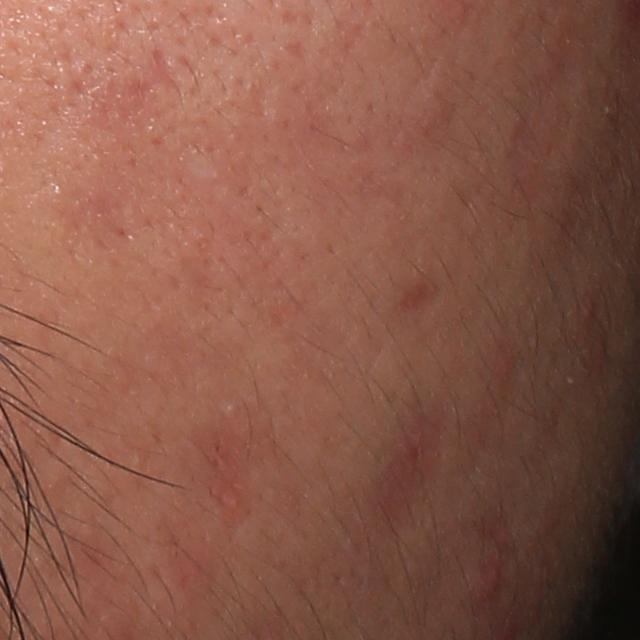atrophic_scar: (367, 375, 453, 553), (99, 47, 187, 123), (36, 80, 95, 162)
papule: (468, 556, 503, 609)
